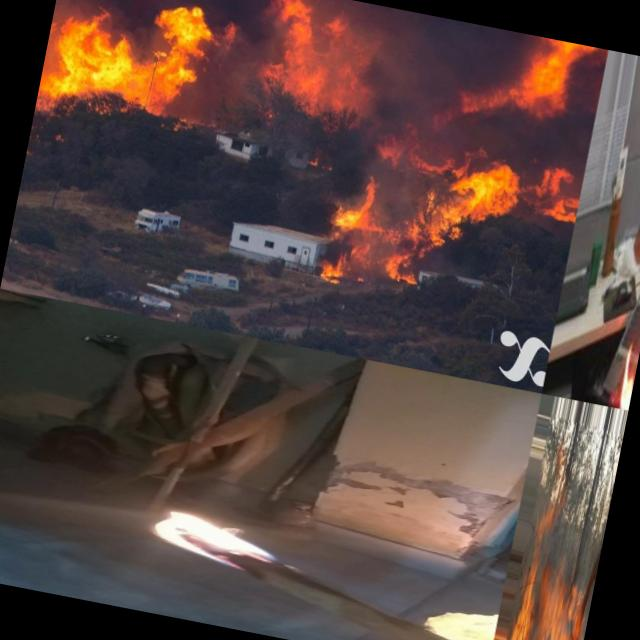fire: (25, 0, 216, 187), (386, 138, 534, 308), (128, 485, 304, 587), (242, 0, 369, 105), (499, 522, 604, 640), (314, 166, 388, 292), (615, 318, 640, 410), (546, 177, 582, 228)
smoke: (354, 4, 560, 113), (546, 42, 608, 163), (362, 78, 466, 146)
